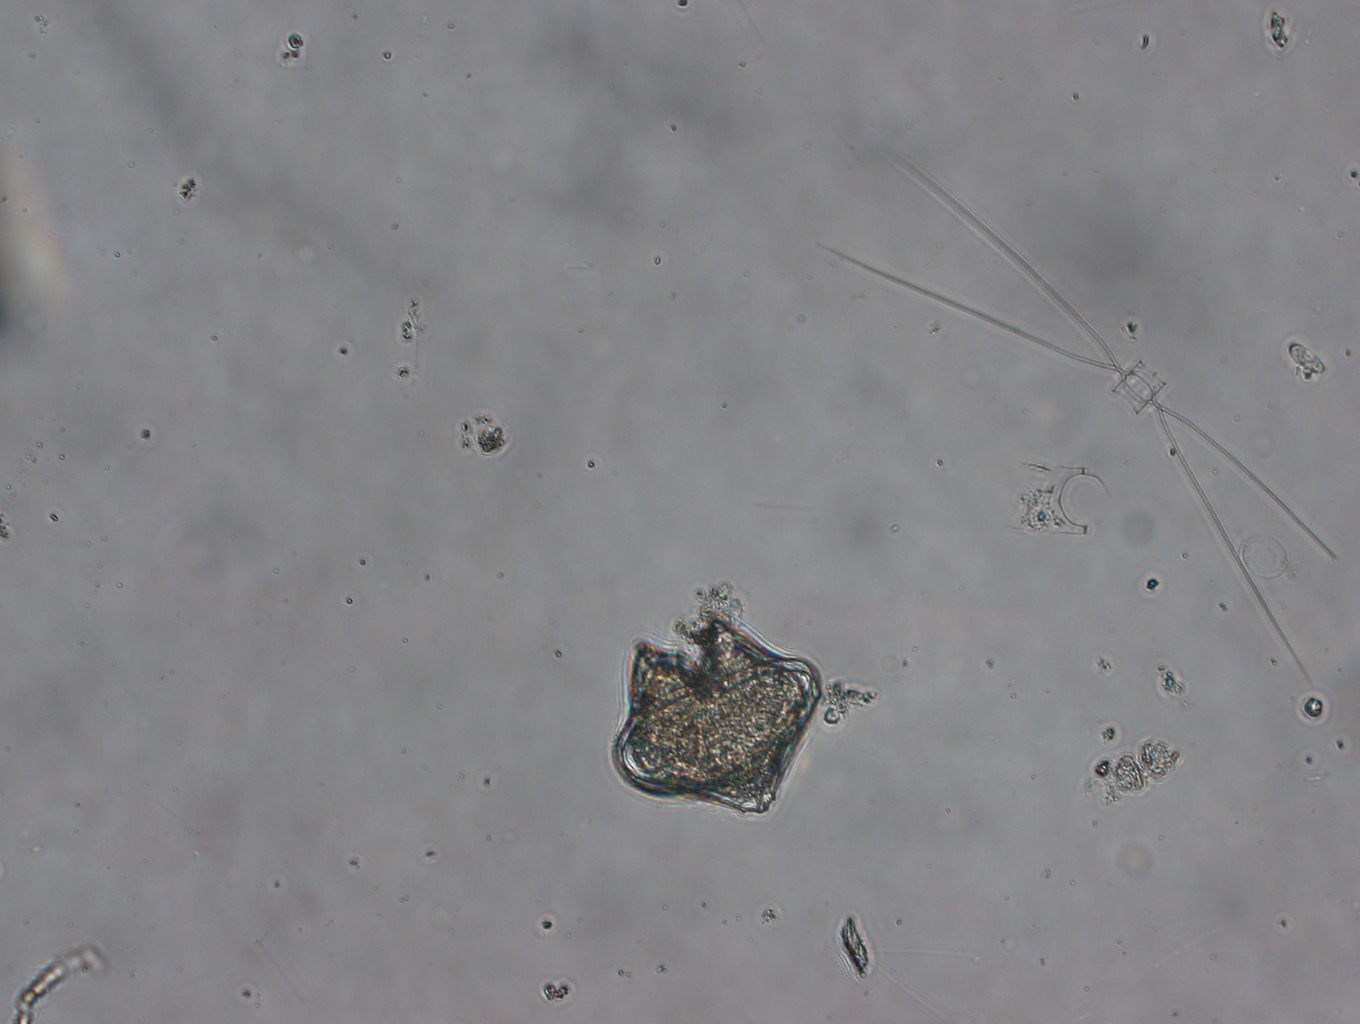chaetoceros: (814, 150, 1340, 685)
protoperidinium: (609, 614, 824, 816)
